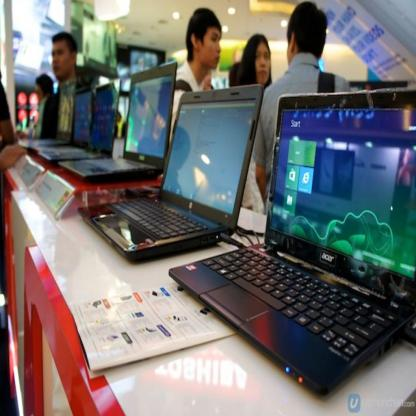board: (170, 91, 416, 402), (98, 79, 258, 270), (59, 62, 177, 181), (38, 79, 121, 162)
